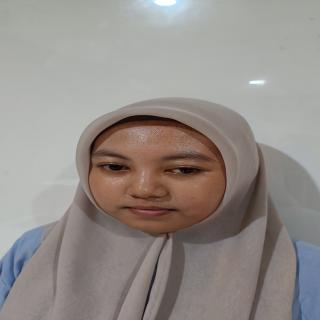Netral: (80, 113, 250, 241)
